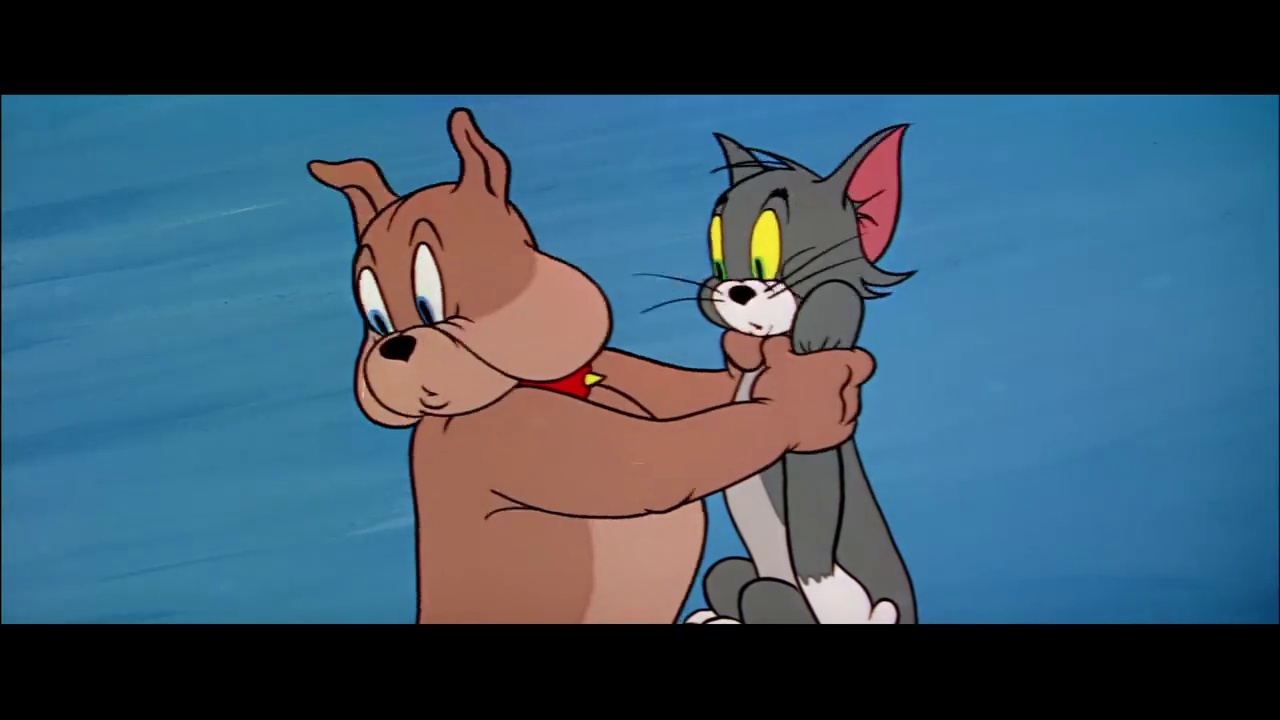spike: (304, 106, 616, 430)
tom: (691, 120, 917, 349)
